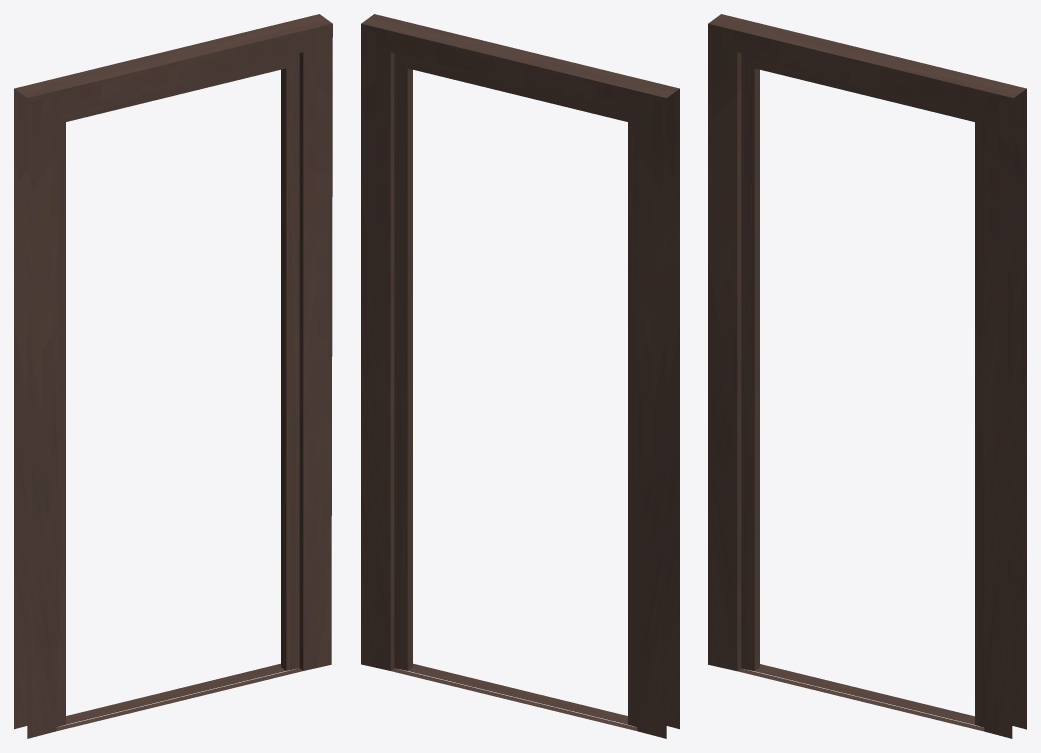
Rendered from EndWall_Door_Wood.fbx.
3 renders of one model, left to right at view 1: azimuth 30°, elevation 25°; view 2: azimuth 150°, elevation 25°; view 3: azimuth 330°, elevation 25°, orthographic.
Parts seen in each view (by area): view 1: EndWall_Door; view 2: EndWall_Door; view 3: EndWall_Door.
Boxes of the visible parts, bbox=[...] form: EndWall_Door: bbox=[14, 14, 332, 738]; EndWall_Door: bbox=[361, 14, 679, 738]; EndWall_Door: bbox=[708, 14, 1026, 738].
Bounding box in the file's own units: 10 × 20.04 × 0.75.
